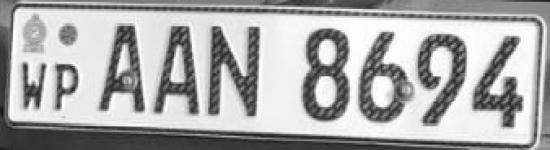4: (469, 31, 529, 131)
6: (358, 24, 414, 126)
8: (302, 21, 358, 128)
9: (416, 29, 470, 134)
A: (96, 18, 150, 121), (151, 18, 204, 120)
N: (202, 22, 274, 121)
P: (53, 59, 82, 116)
W: (18, 56, 52, 112)
